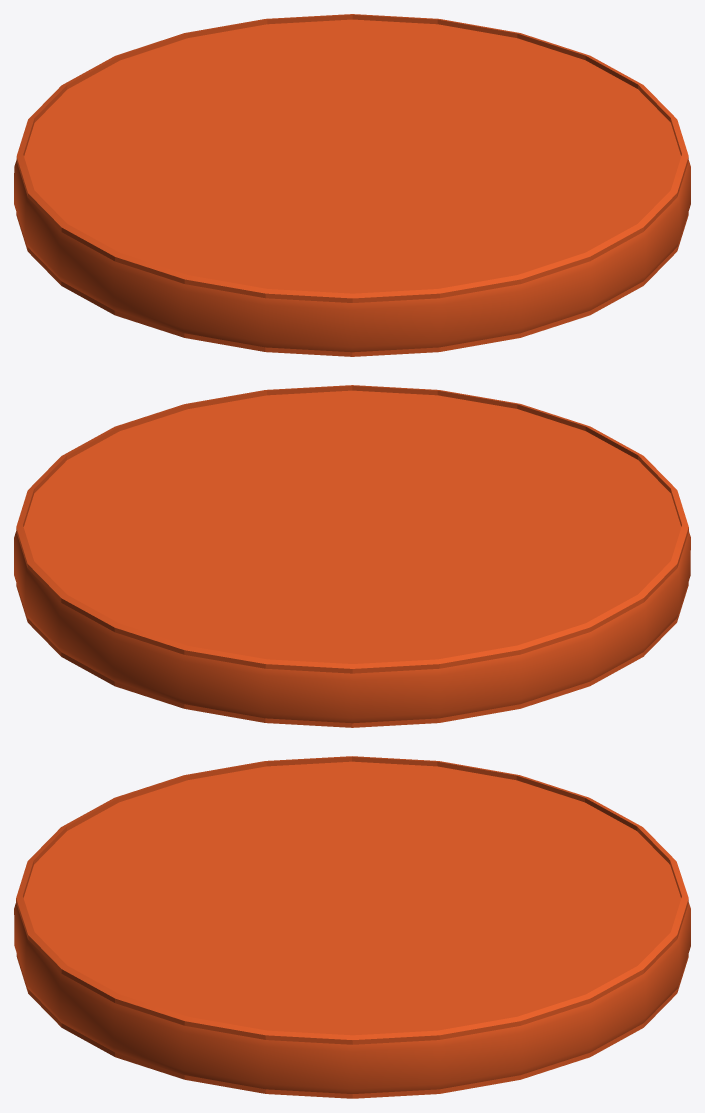
The model's file is money.fbx.
The picture shows the model from 3 angles, top to bottom: view 1: azimuth 30°, elevation 25°; view 2: azimuth 150°, elevation 25°; view 3: azimuth 270°, elevation 25°; orthographic projection.
Parts seen in each view (by area): view 1: BB022; view 2: BB022; view 3: BB022.
Boxes of the visible parts, x1,y1,x2,y2 form: BB022: (14, 14, 690, 356); BB022: (14, 385, 690, 727); BB022: (14, 756, 690, 1098).
Bounding box in the file's own units: 1.43 × 0.1467 × 1.44.
